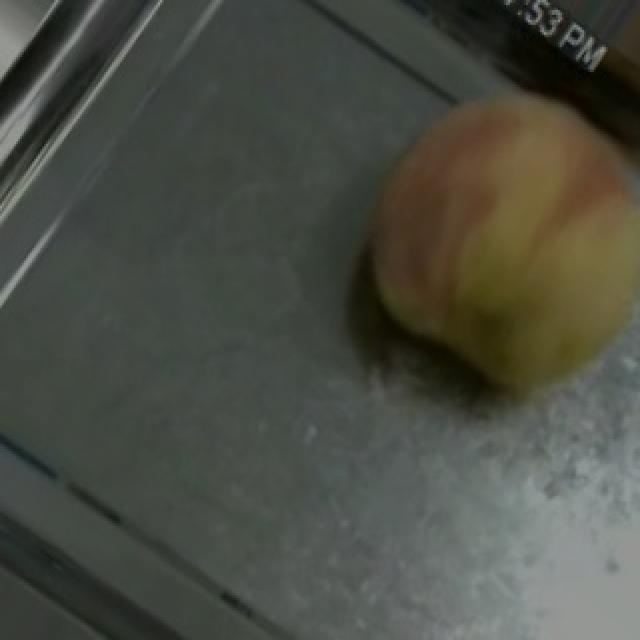Fruit: (314, 44, 640, 407)
